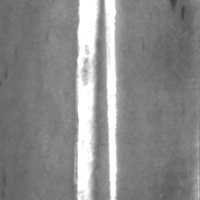scratches: (72, 1, 108, 200), (102, 1, 119, 199)
